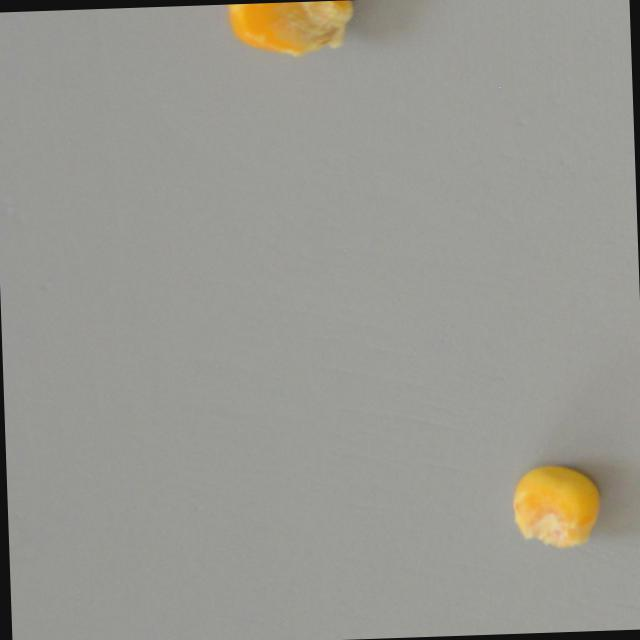no_desgerminado: (227, 0, 355, 60)
pelicula: (509, 460, 602, 549)
